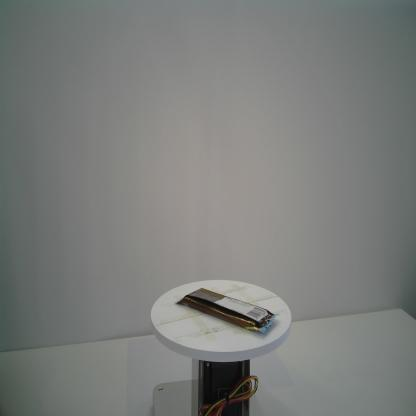Chocolate: (173, 287, 280, 335)
